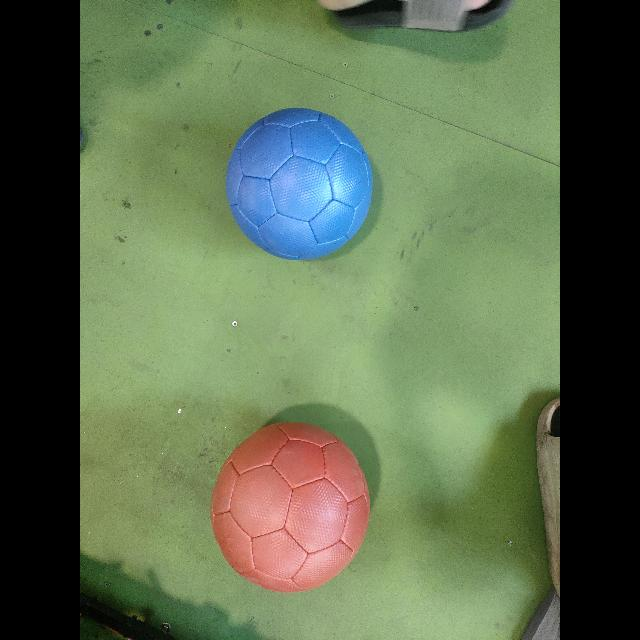B: (226, 108, 372, 260)
R: (211, 422, 370, 592)
